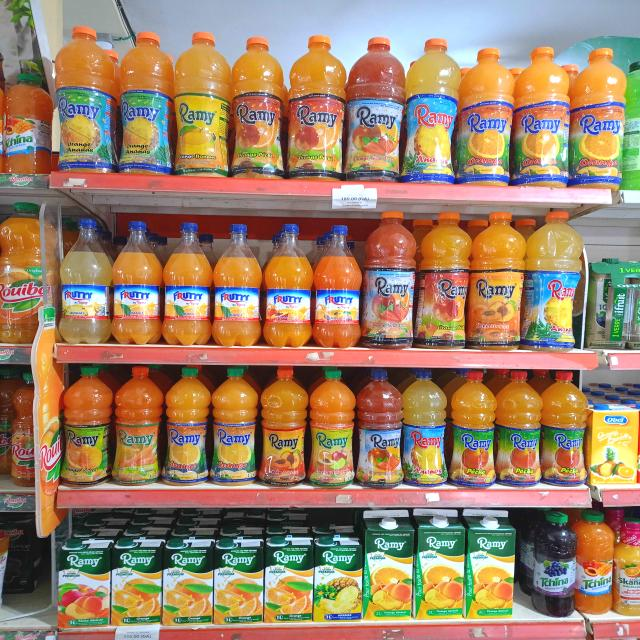Ifruit: (588, 260, 638, 348), (626, 58, 640, 190)
PET Frutty orange 125L: (211, 226, 261, 341), (114, 222, 160, 337), (168, 224, 205, 345)
PET Frutty orange peche 125L: (314, 228, 364, 346), (266, 227, 309, 347)
PET Ramy Ananas 125 L: (405, 372, 446, 484)
PET Ramy Orange 125L: (166, 374, 211, 492), (216, 372, 256, 484)
PET Ramy Peche Abricot 2 L: (472, 216, 523, 352)
PET Ramy orange abricot 125L: (60, 406, 111, 490)
PET Ramy peche abricot 125 L: (263, 368, 305, 486)
Pack Ramy premium Orange 1L: (164, 542, 212, 624), (218, 543, 264, 625), (266, 540, 312, 622), (115, 543, 160, 626)
Pack Ramy premium abricot-peche 1L: (60, 543, 107, 627)
Pet Ramy Orange 2L: (574, 51, 625, 197), (456, 50, 508, 188), (520, 47, 570, 188)
Pet Ramy Orange peche 2l: (235, 37, 290, 182), (422, 216, 469, 350), (297, 43, 342, 178)
Premium Pack Ramy ananas 1L: (316, 540, 358, 620)
frutpet frutty annanas 125L: (63, 218, 110, 343)
obei: (591, 403, 638, 486)
pet ramy ananas 2L: (408, 40, 456, 185), (529, 215, 579, 350)
pet ramy mangueananas 2L: (55, 38, 122, 176), (123, 34, 176, 174)
pet ramy or-banane 2L: (179, 37, 233, 177)
pet ramy orange citron carotte 125L: (118, 375, 161, 482)
pet ramy orange peche fraise 125L: (357, 373, 403, 486)
pet ramy peche 125L: (449, 377, 494, 487), (546, 372, 587, 482), (498, 374, 538, 484)
pet ramy peche pomme poire 125L: (309, 372, 351, 486)
pet ramy peche pomme poire 2L: (347, 41, 399, 183), (368, 220, 416, 349)
ramy premium Orange Abricot 2L: (415, 517, 466, 617), (362, 520, 412, 616), (468, 516, 511, 617)
rouiba: (3, 200, 47, 343), (1, 368, 40, 483)
skander: (616, 518, 640, 615)
tchina: (5, 74, 56, 172), (578, 511, 618, 616), (540, 514, 576, 618)
